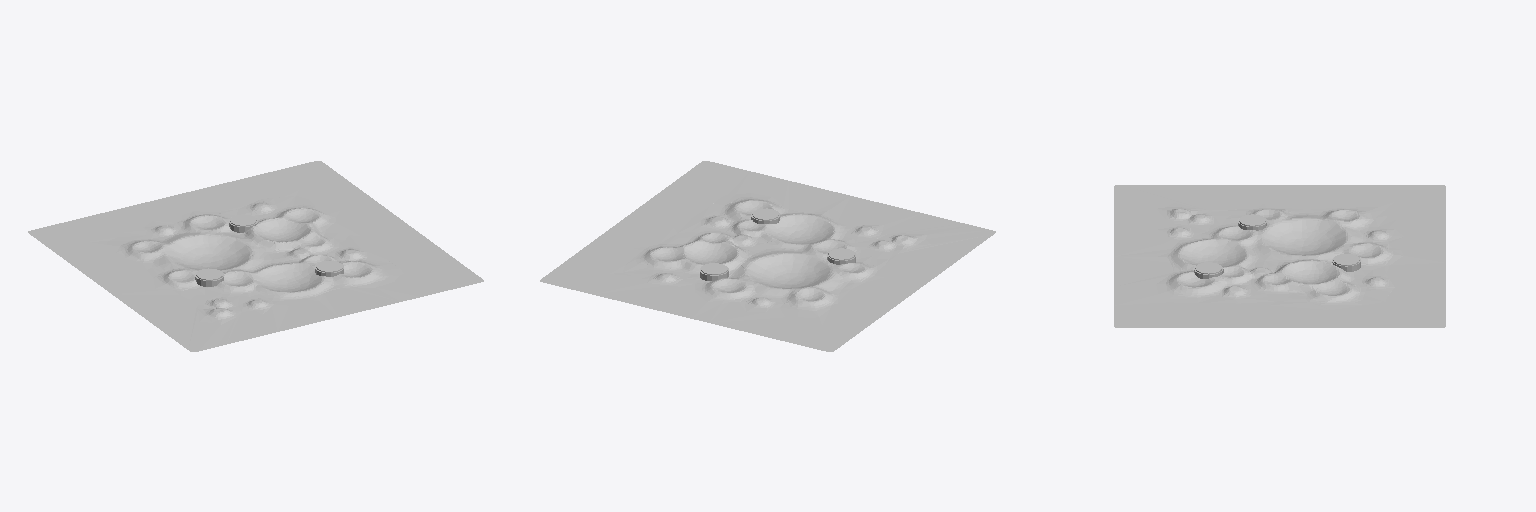
The model's file is terian.obj.
3 renders of one model, left to right at view 1: azimuth 30°, elevation 25°; view 2: azimuth 150°, elevation 25°; view 3: azimuth 270°, elevation 25°, orthographic.
Parts seen in each view (by area): view 1: Cylinder; view 2: Cylinder; view 3: Cylinder.
Boxes of the visible parts, <box> form: Cylinder: <box>28,161,483,351</box>; Cylinder: <box>540,161,995,351</box>; Cylinder: <box>1114,185,1445,327</box>.
Bounding box in the file's own units: 57.83 × 2.49 × 56.57.